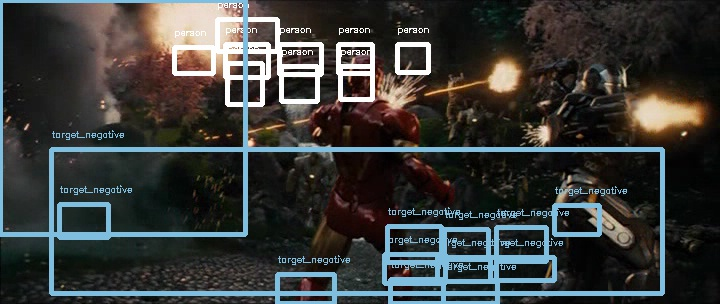person: (342, 49, 386, 96), (341, 49, 385, 96), (343, 49, 387, 96), (342, 48, 386, 95), (342, 50, 386, 97)
target_negative: (162, 117, 564, 290), (524, 25, 711, 194), (87, 140, 677, 161), (468, 112, 630, 140), (280, 277, 436, 291), (602, 62, 614, 156)
